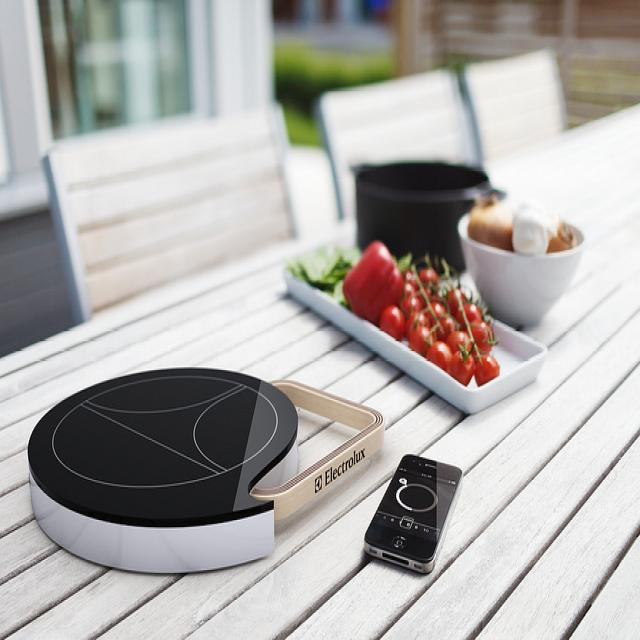chair: (43, 110, 298, 322), (315, 67, 475, 221), (463, 47, 567, 161)
dining table: (0, 73, 640, 640)
